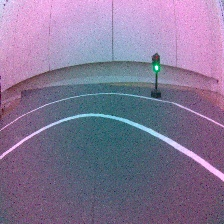green: (148, 53, 165, 100)
